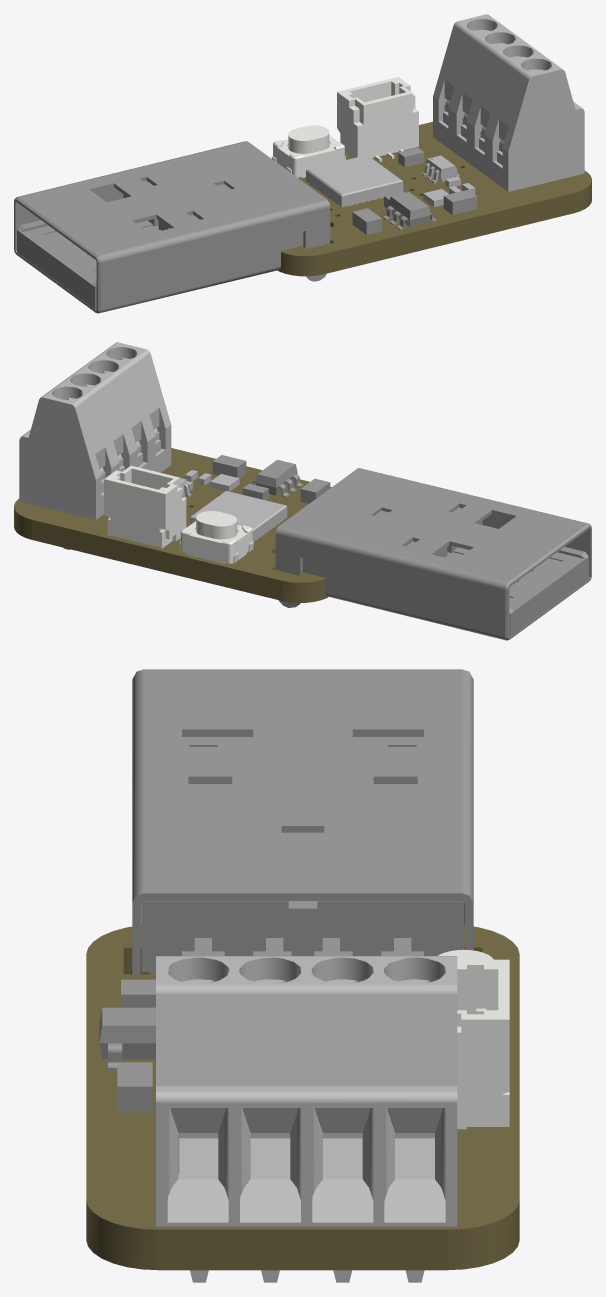
File: ada-5953.glb
3 renders of one model, top to bottom at view 1: azimuth 30°, elevation 25°; view 2: azimuth 150°, elevation 25°; view 3: azimuth 270°, elevation 25°, orthographic. The views are drawn at different scales.
Visible parts, largest first — view 1: 0.3333333333333333_0.3333333333333333_0.3333333333333333_0, 0.5833333333333334_0.5833333333333334_0.5833333333333334_0.8, 0.16666666666666666_0.16666666666666666_0.08333333333333333_, 0.9166666666666666_0.9166666666666666_0.9166666666666666_0.8; view 2: 0.3333333333333333_0.3333333333333333_0.3333333333333333_0, 0.5833333333333334_0.5833333333333334_0.5833333333333334_0.8, 0.16666666666666666_0.16666666666666666_0.08333333333333333_, 0.9166666666666666_0.9166666666666666_0.9166666666666666_0.8; view 3: 0.3333333333333333_0.3333333333333333_0.3333333333333333_0, 0.5833333333333334_0.5833333333333334_0.5833333333333334_0.8, 0.16666666666666666_0.16666666666666666_0.08333333333333333_, 0.9166666666666666_0.9166666666666666_0.9166666666666666_0.8.
Boxes of the visible parts, x1,y1,x2,y2 form: 0.3333333333333333_0.3333333333333333_0.3333333333333333_0: [14, 141, 477, 313]; 0.5833333333333334_0.5833333333333334_0.5833333333333334_0.8: [306, 14, 584, 207]; 0.16666666666666666_0.16666666666666666_0.08333333333333333_: [277, 121, 591, 276]; 0.9166666666666666_0.9166666666666666_0.9166666666666666_0.8: [271, 77, 418, 177]; 0.3333333333333333_0.3333333333333333_0.3333333333333333_0: [212, 455, 591, 640]; 0.5833333333333334_0.5833333333333334_0.5833333333333334_0.8: [19, 342, 287, 549]; 0.16666666666666666_0.16666666666666666_0.08333333333333333_: [14, 448, 331, 602]; 0.9166666666666666_0.9166666666666666_0.9166666666666666_0.8: [104, 465, 253, 564]; 0.3333333333333333_0.3333333333333333_0.3333333333333333_0: [99, 669, 473, 1112]; 0.5833333333333334_0.5833333333333334_0.5833333333333334_0.8: [156, 956, 457, 1282]; 0.16666666666666666_0.16666666666666666_0.08333333333333333_: [86, 925, 519, 1270]; 0.9166666666666666_0.9166666666666666_0.9166666666666666_0.8: [438, 949, 509, 1129].
Size of the model in its own units: 4.02 by 1.2 by 1.52.
